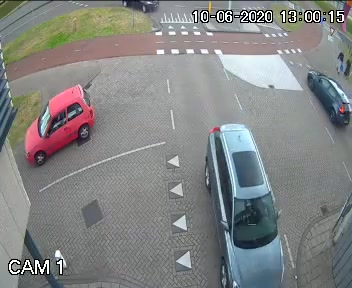car: (190, 122, 301, 288), (26, 83, 101, 160), (299, 61, 352, 134)
